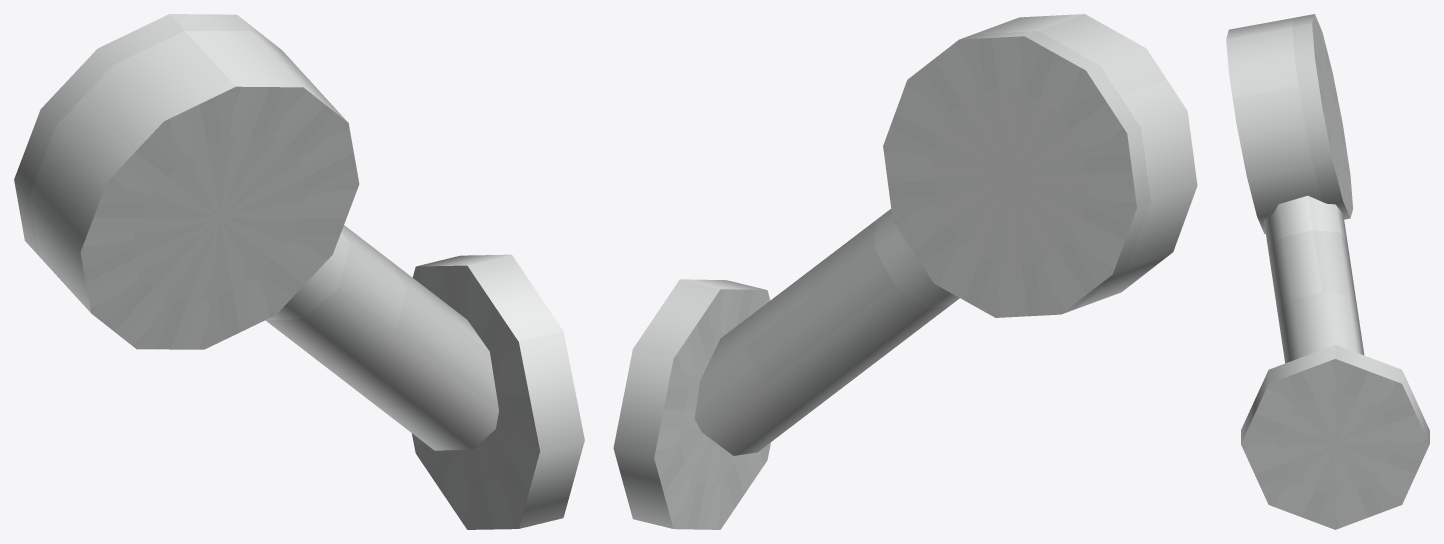
The model's file is nycsignalarm_stub_4.obj.
The picture shows the model from 3 angles, left to right: view 1: azimuth 30°, elevation 25°; view 2: azimuth 150°, elevation 25°; view 3: azimuth 270°, elevation 25°; orthographic projection. The views are drawn at different scales.
Parts seen in each view (by area): view 1: nycsignalarm_stub_4; view 2: nycsignalarm_stub_4; view 3: nycsignalarm_stub_4.
Part boxes in pixels (box(x1,y1,x2,y2)): nycsignalarm_stub_4: box(14, 14, 584, 529); nycsignalarm_stub_4: box(613, 14, 1197, 529); nycsignalarm_stub_4: box(1226, 14, 1429, 529).
Size of the model in its own units: 0.6926 by 0.8024 by 0.3774.
